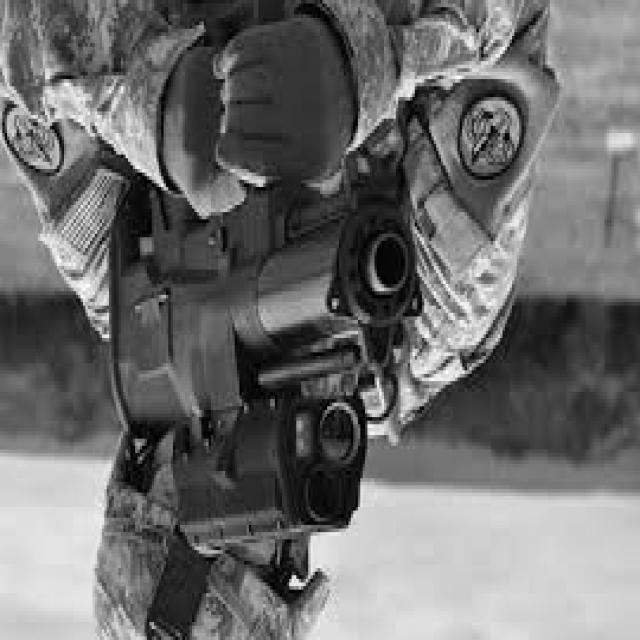gun: (82, 94, 468, 557)
